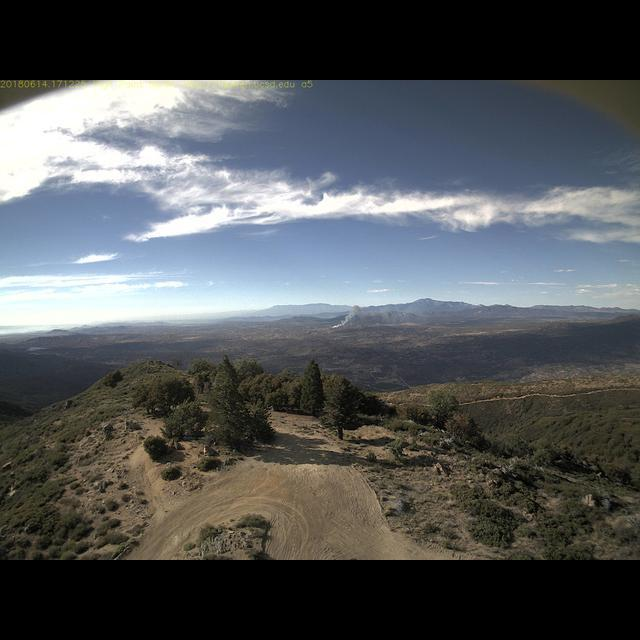Smoke: (325, 303, 384, 331)
